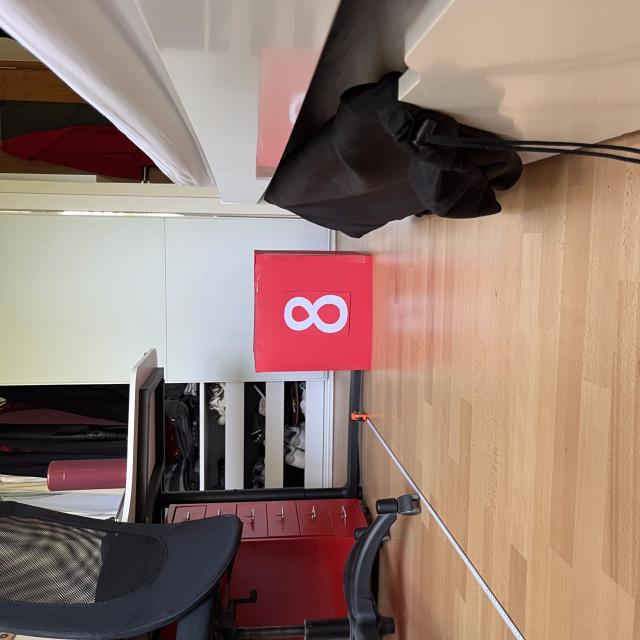box: (248, 245, 377, 374)
